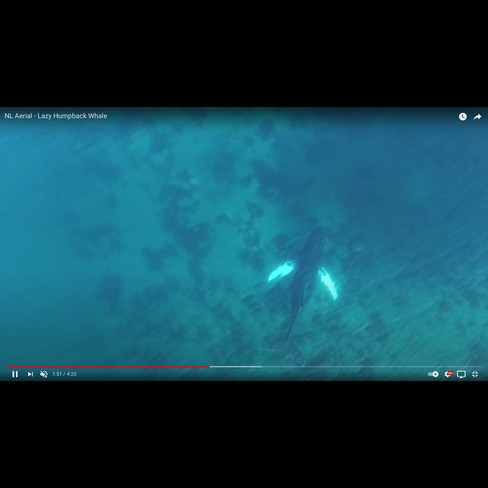hump: (250, 217, 338, 369)
